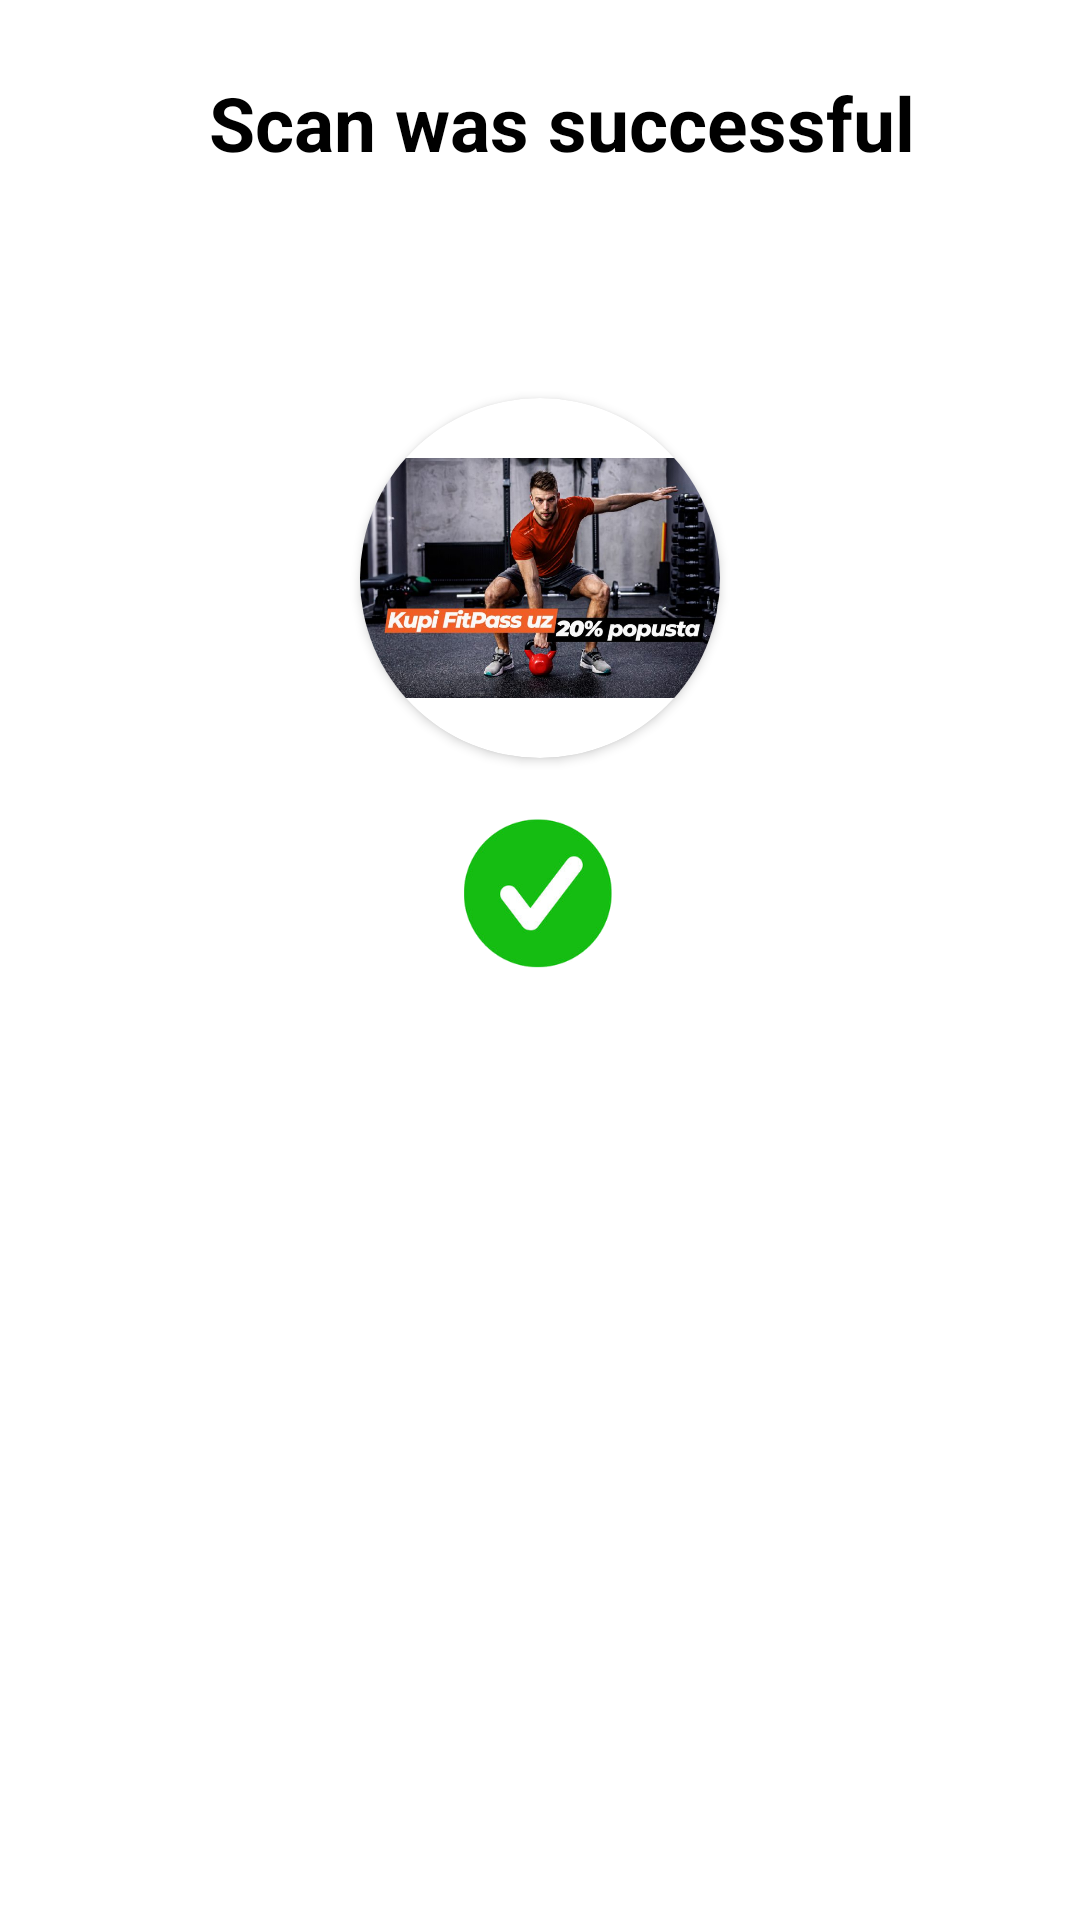

Point at icon controls on the screen. Image size 1080 × 1920, points as (x,y).
greencheck: (538,893)
reklama: (540,608)
